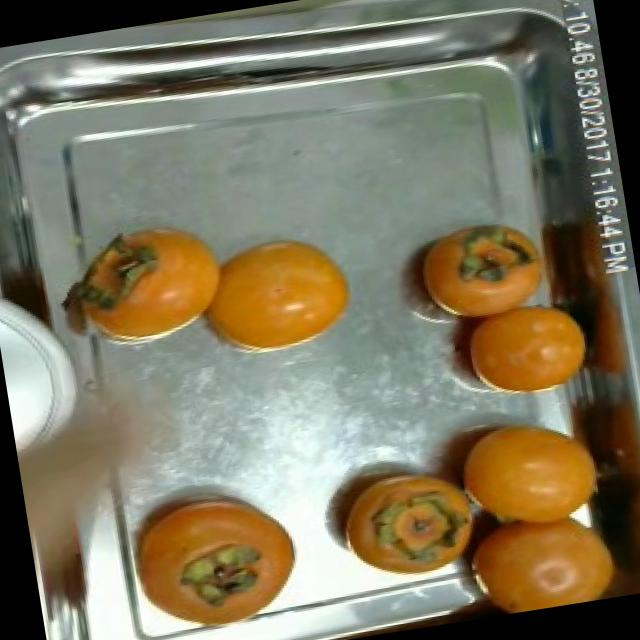Fruit: (94, 462, 320, 640), (42, 202, 246, 372), (434, 392, 626, 552), (310, 438, 502, 594), (182, 219, 366, 367), (431, 284, 606, 412), (404, 208, 555, 334)
